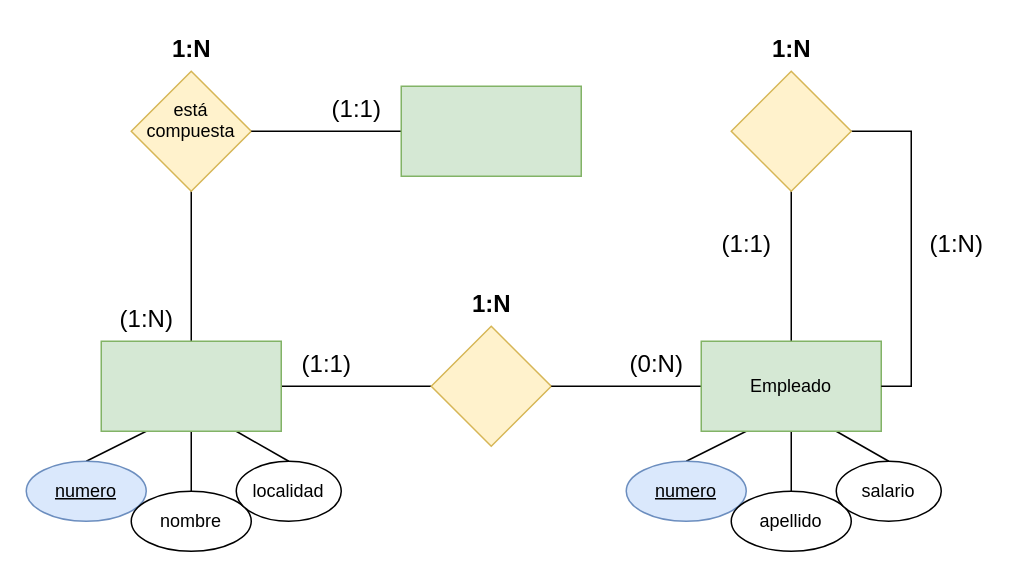
This 1028x578 diagram has some shape labels left out. The centre of each missing label's shape, as x and y in pixels:
Departamento: pixel 190 385
Empresa: pixel 490 130
es jefe: pixel 790 130
trabajar: pixel 490 385
